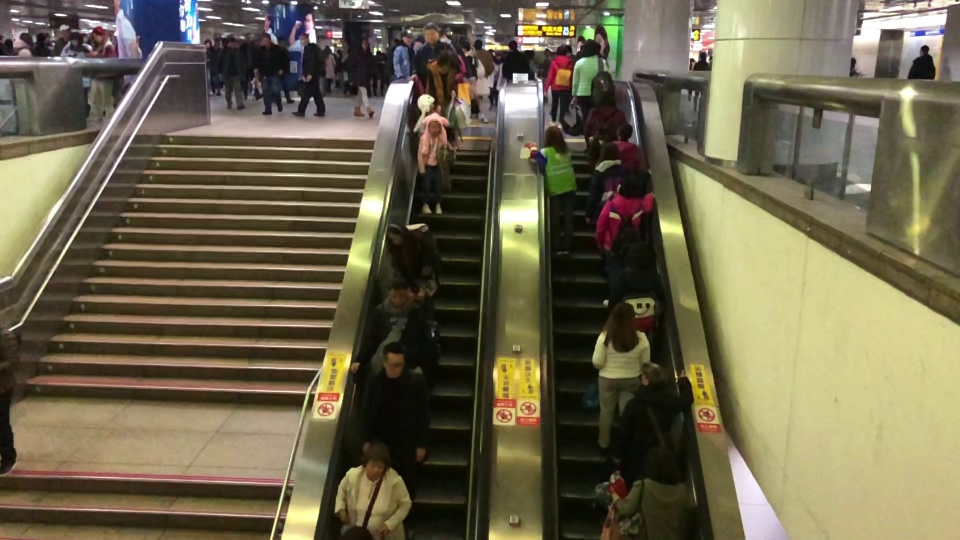person_head: (646, 447, 682, 484), (361, 441, 390, 478), (381, 341, 405, 379), (625, 241, 656, 268), (610, 302, 637, 330), (386, 276, 410, 305), (641, 365, 670, 386), (618, 177, 643, 198), (386, 221, 407, 244), (598, 141, 622, 161), (544, 125, 563, 146), (422, 22, 440, 44), (436, 50, 454, 72), (581, 39, 599, 55), (616, 123, 634, 139), (427, 119, 442, 136), (598, 92, 615, 106), (92, 27, 106, 42), (19, 31, 33, 45), (260, 33, 271, 47), (402, 33, 414, 45), (70, 31, 81, 44), (299, 32, 310, 45), (555, 44, 568, 55), (60, 25, 71, 36), (919, 44, 930, 55), (508, 39, 518, 51), (474, 38, 482, 50), (227, 38, 238, 46), (461, 42, 469, 53), (850, 56, 857, 68), (361, 38, 369, 48), (700, 51, 707, 59), (496, 52, 501, 60)
person_vbox: (361, 341, 432, 538), (591, 302, 651, 459), (351, 276, 441, 380), (607, 446, 696, 540), (594, 176, 655, 308), (333, 439, 412, 540), (524, 125, 578, 256), (618, 365, 695, 453), (607, 241, 668, 333), (583, 141, 651, 221), (379, 220, 442, 294), (417, 115, 454, 216), (0, 322, 22, 475), (582, 91, 628, 163), (291, 32, 327, 117), (408, 22, 457, 84), (571, 39, 615, 108), (425, 50, 457, 143), (59, 30, 92, 115), (86, 26, 115, 120), (253, 32, 285, 115), (542, 44, 573, 129), (347, 38, 376, 118), (216, 37, 246, 110), (474, 37, 494, 123), (612, 122, 642, 170), (692, 50, 713, 111), (461, 42, 479, 113), (393, 31, 418, 81), (501, 40, 529, 80), (907, 44, 936, 79), (487, 52, 502, 110), (11, 30, 35, 56), (54, 24, 71, 55), (849, 55, 866, 78)
